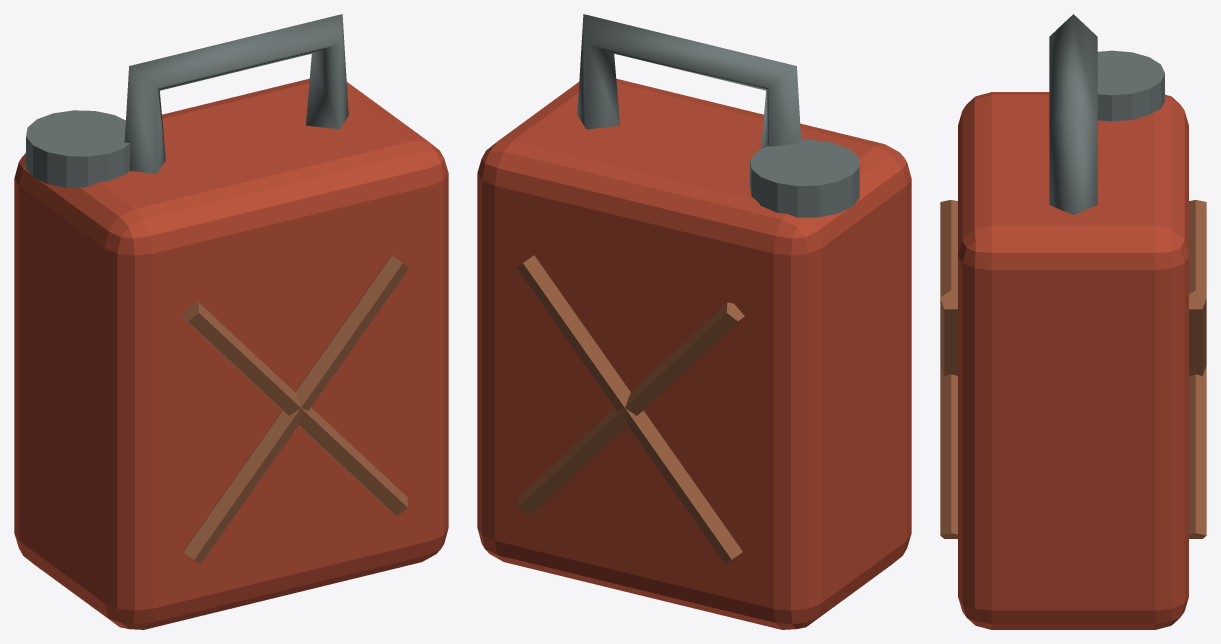
The model's file is fuel.glb.
3 views of the same model, side by side, from view 1: azimuth 30°, elevation 25°; view 2: azimuth 150°, elevation 25°; view 3: azimuth 270°, elevation 25° (orthographic). The views are drawn at different scales.
Visible parts, largest first — view 1: fuel; view 2: fuel; view 3: fuel.
Boxes of the visible parts, box(x1,y1,x2,y2) form: fuel: box(14, 14, 448, 629); fuel: box(477, 14, 911, 629); fuel: box(940, 14, 1206, 629).
Bounding box in the file's own units: 0.4 × 0.5727 × 0.2768.
